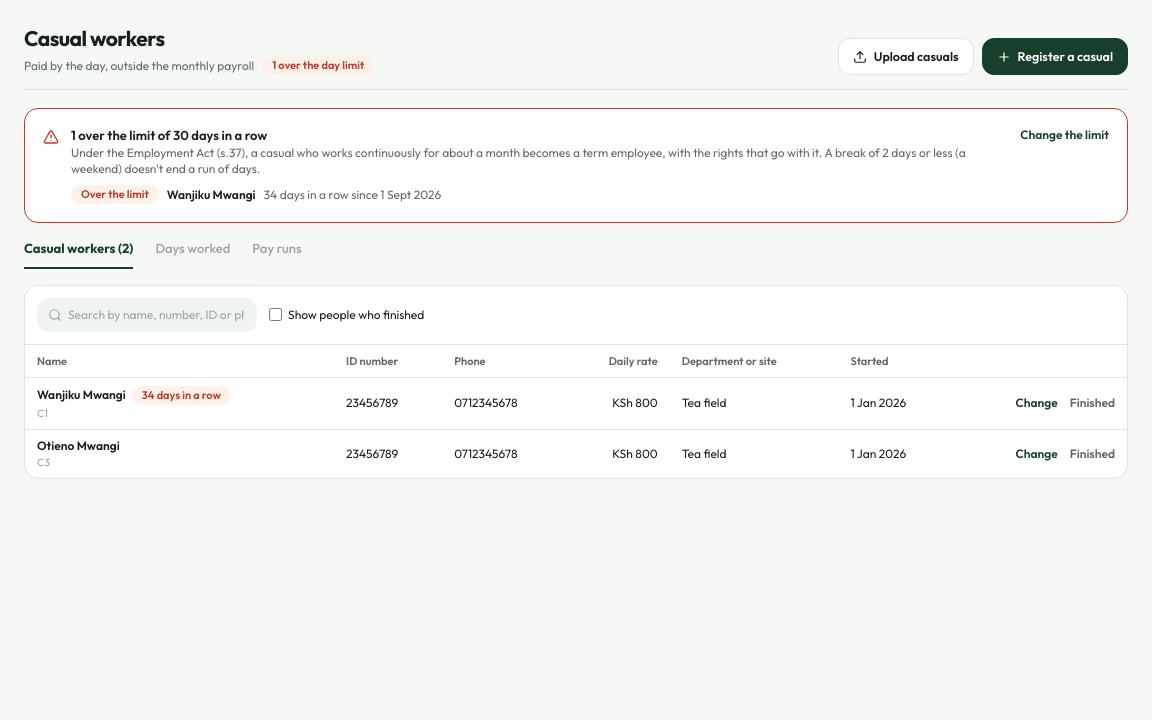
Scenario: CasualWorkers › lists current casuals with the day-limit warning; people who finished are hidden until asked
expect the text "Wanjiku Mwangi" below "Name" is shown: met, box [37,387,126,402]
expect the text "1 over the day limit" is shown: met, box [262,56,374,75]
Click the checkbox labelled "Show people who finished" at (276, 314), box [269,308,282,321]
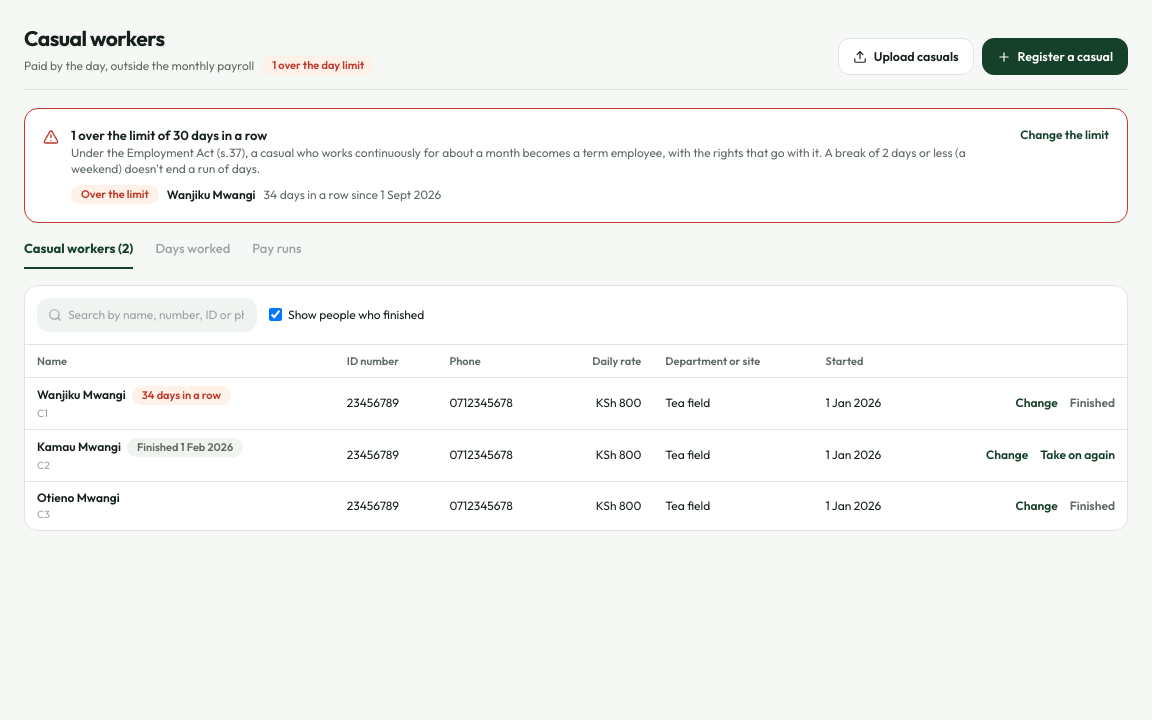
expect the text "Kamau Mwangi" is shown: met, box [37,439,121,455]
expect the text "Finished 1 Feb 2026" is shown: met, box [127,438,243,456]
